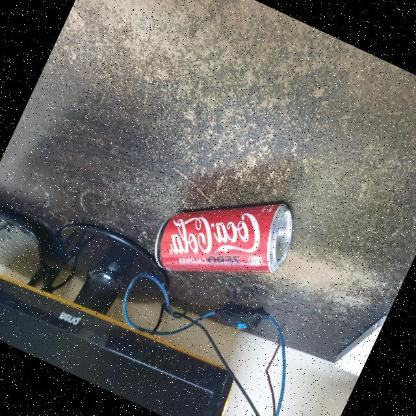Can: (141, 152, 313, 320)
